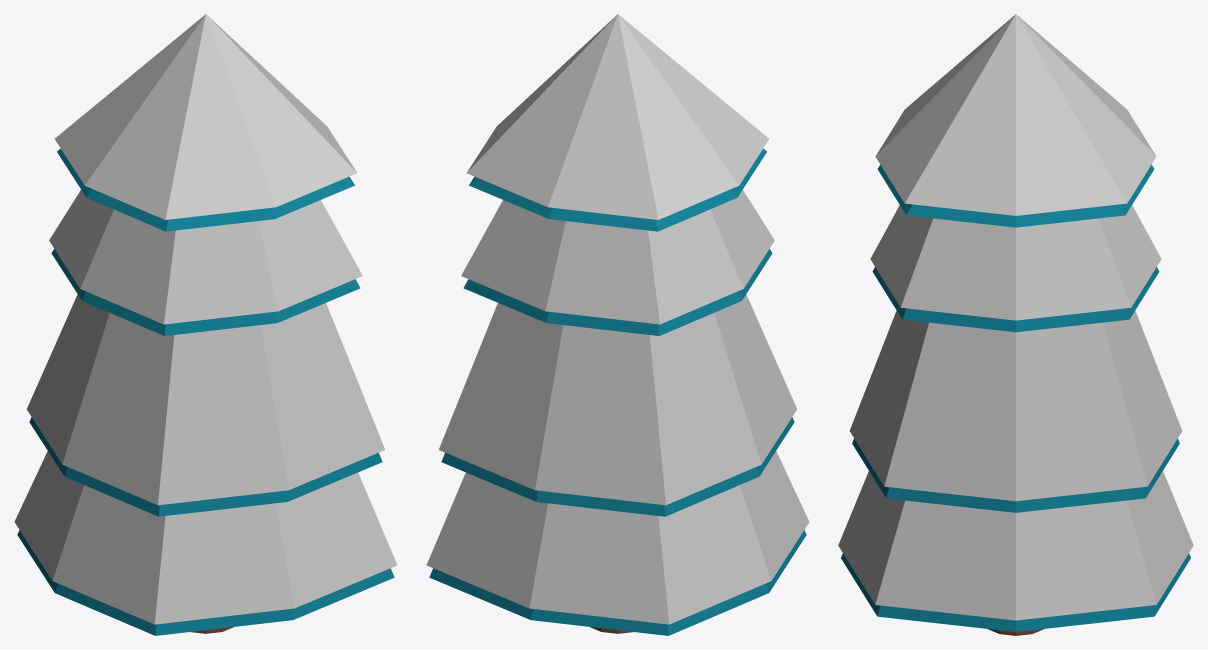
File: Tree_22_winter_blue_vc.fbx
The picture shows the model from 3 angles, left to right: view 1: azimuth 30°, elevation 25°; view 2: azimuth 150°, elevation 25°; view 3: azimuth 270°, elevation 25°; orthographic projection.
Visible parts, largest first — view 1: Tree_22_winter_blue_vc; view 2: Tree_22_winter_blue_vc; view 3: Tree_22_winter_blue_vc.
Boxes of the visible parts, bbox=[...] form: Tree_22_winter_blue_vc: bbox=[14, 14, 397, 635]; Tree_22_winter_blue_vc: bbox=[426, 14, 809, 635]; Tree_22_winter_blue_vc: bbox=[838, 14, 1193, 635].
Bounding box in the file's own units: 84.01 × 159 × 84.01.
